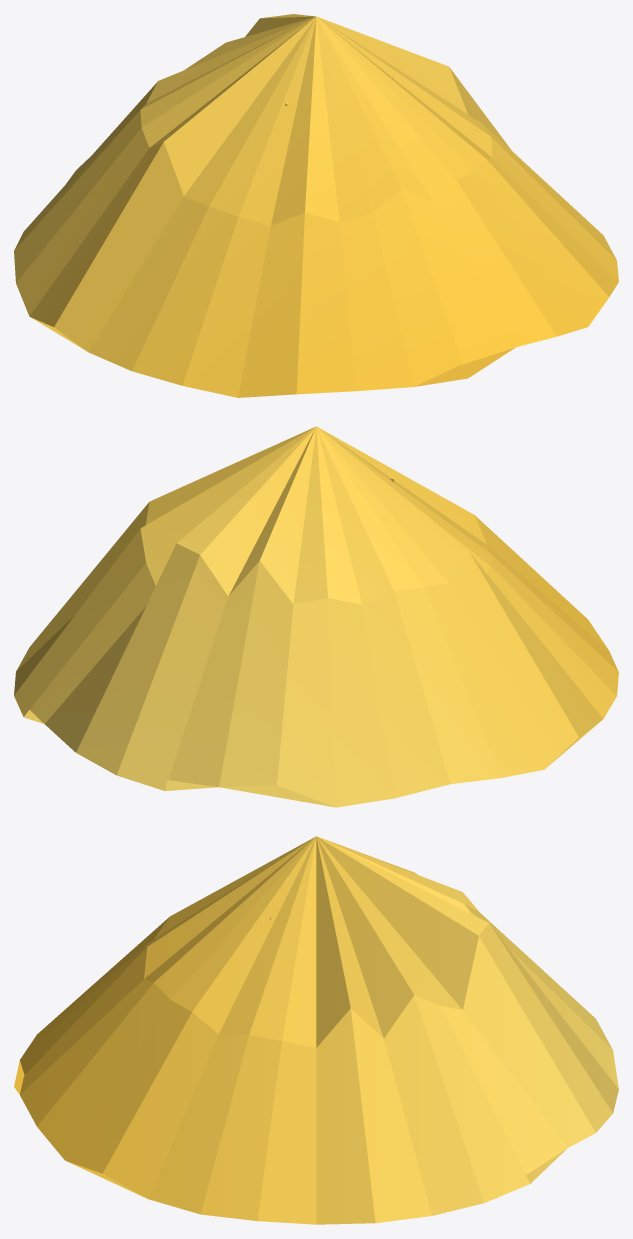
File: cheese_pile.gltf
3 views of the same model, one above another, from view 1: azimuth 30°, elevation 25°; view 2: azimuth 150°, elevation 25°; view 3: azimuth 270°, elevation 25° (orthographic).
Visible parts, largest first — view 1: Cone; view 2: Cone; view 3: Cone.
Boxes of the visible parts, left/top/right/bottom form: Cone: left=14, top=14, right=618, bottom=397; Cone: left=14, top=426, right=618, bottom=807; Cone: left=14, top=836, right=618, bottom=1224.
Bounding box in the file's own units: 2 × 0.9542 × 2.
Materials: 1 (1 with a texture image).
